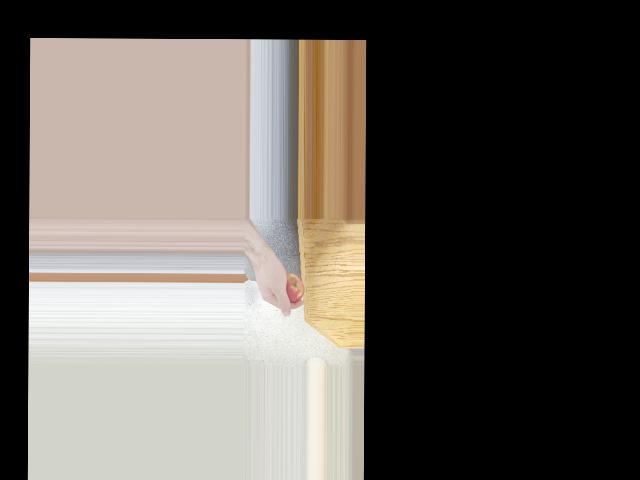apple: (278, 277, 307, 305)
